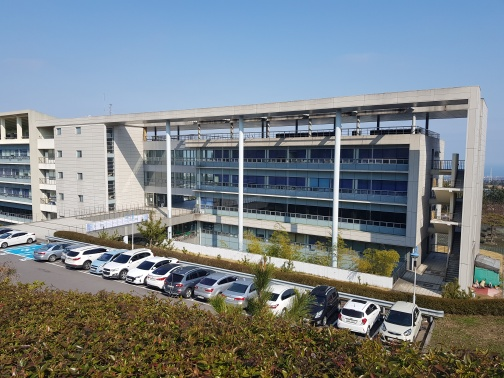Engineering College Building 4: (12, 71, 467, 295), (4, 104, 479, 227), (181, 112, 475, 274)
